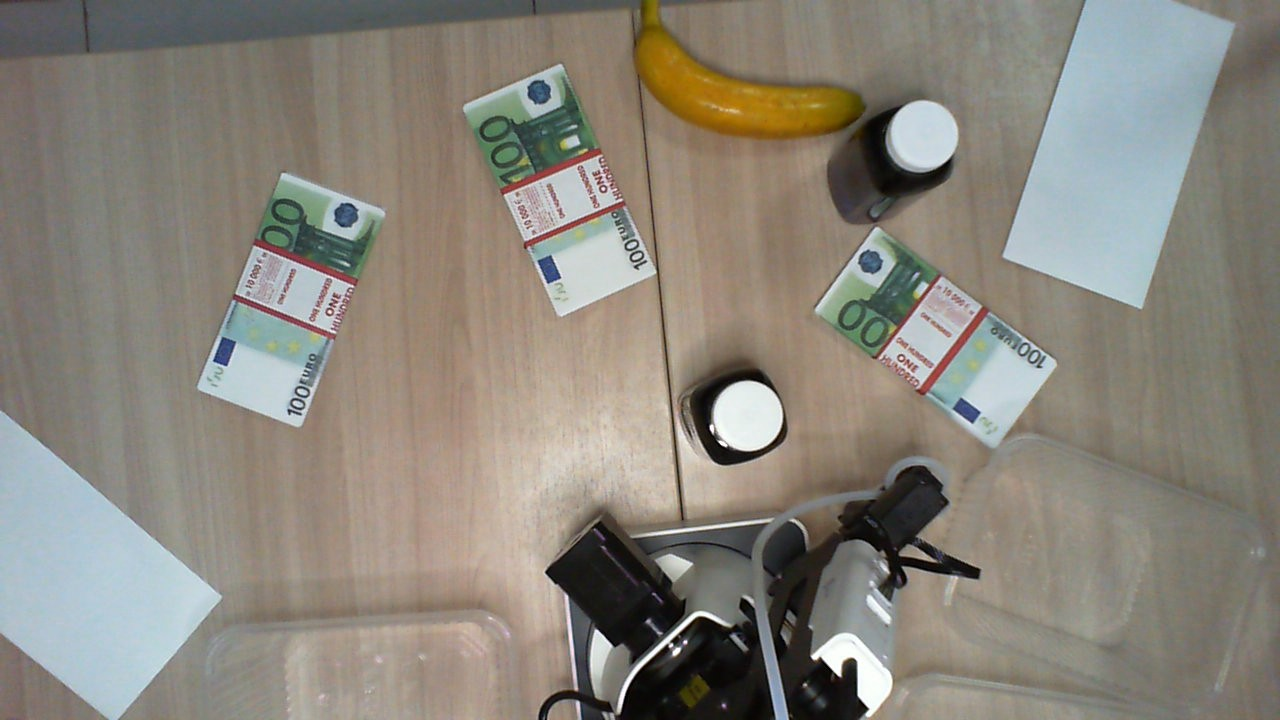banana: (631, 1, 866, 139)
bottle: (692, 364, 788, 461), (863, 99, 960, 195)
convert: (1002, 1, 1236, 310), (1, 407, 224, 718)
money: (815, 227, 1059, 448), (463, 64, 658, 318), (194, 171, 384, 430)
